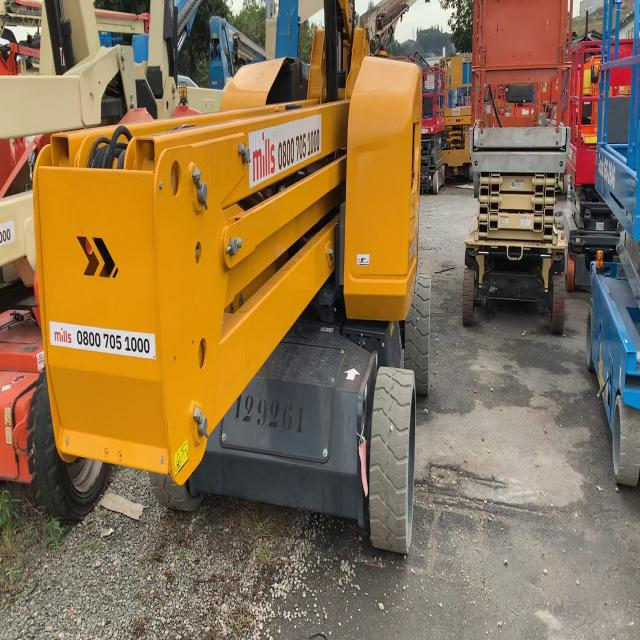Adesivo Longo: (248, 113, 322, 191), (49, 320, 157, 362)
